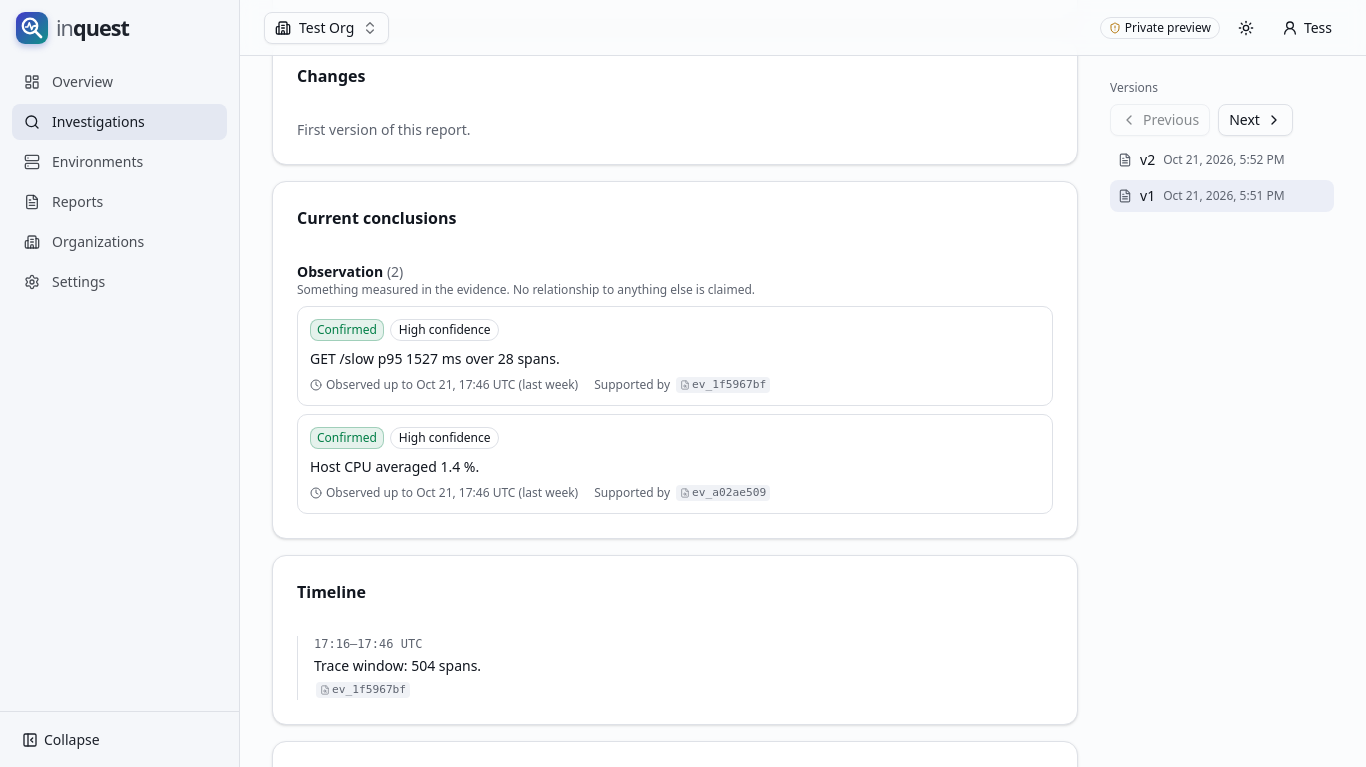
Test case: report view › opens evidence citations from conclusions
(page scrolled)
Click the button with aria-label "Evidence ev_1f5967bf": (723, 385) top-left (676, 377), bottom-right (770, 393)
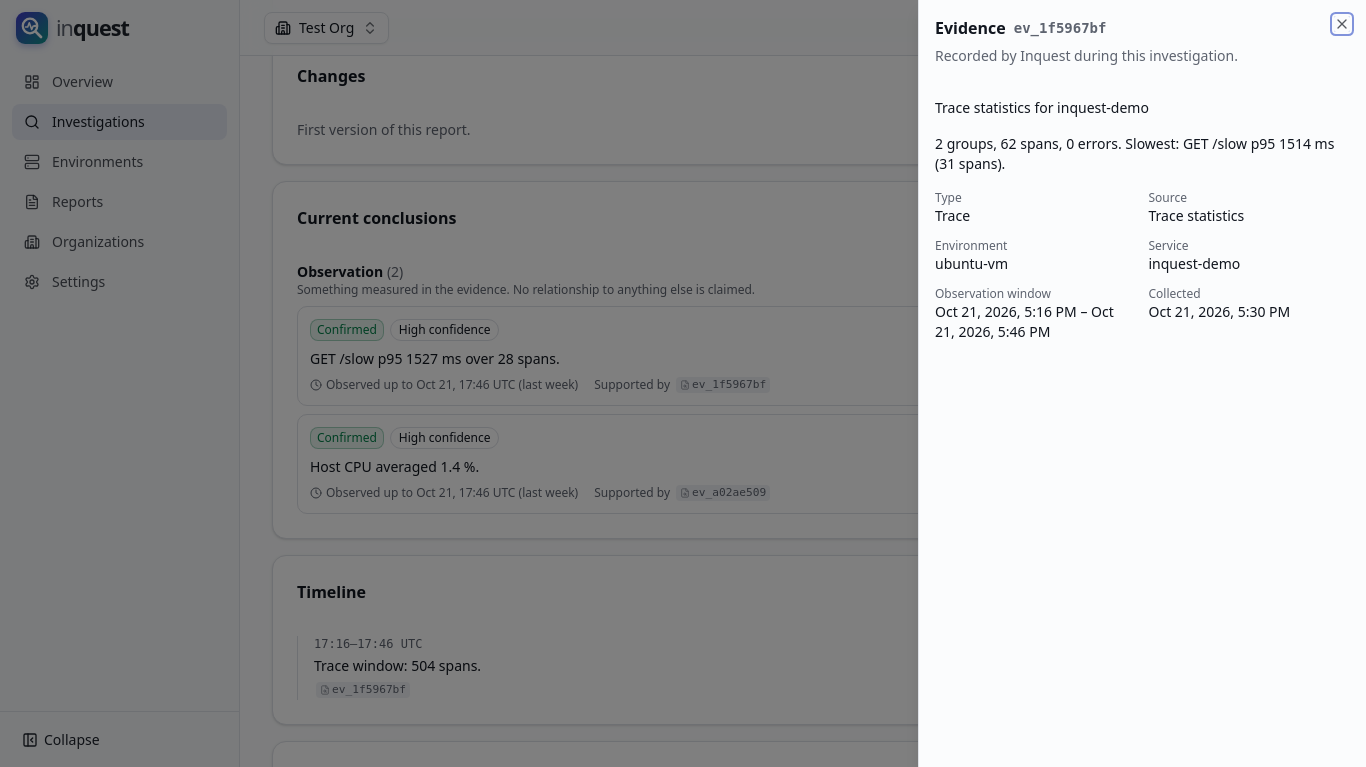
Result: the text "62 spans, 0 errors" is shown at top-left (935, 134), bottom-right (1338, 173)
